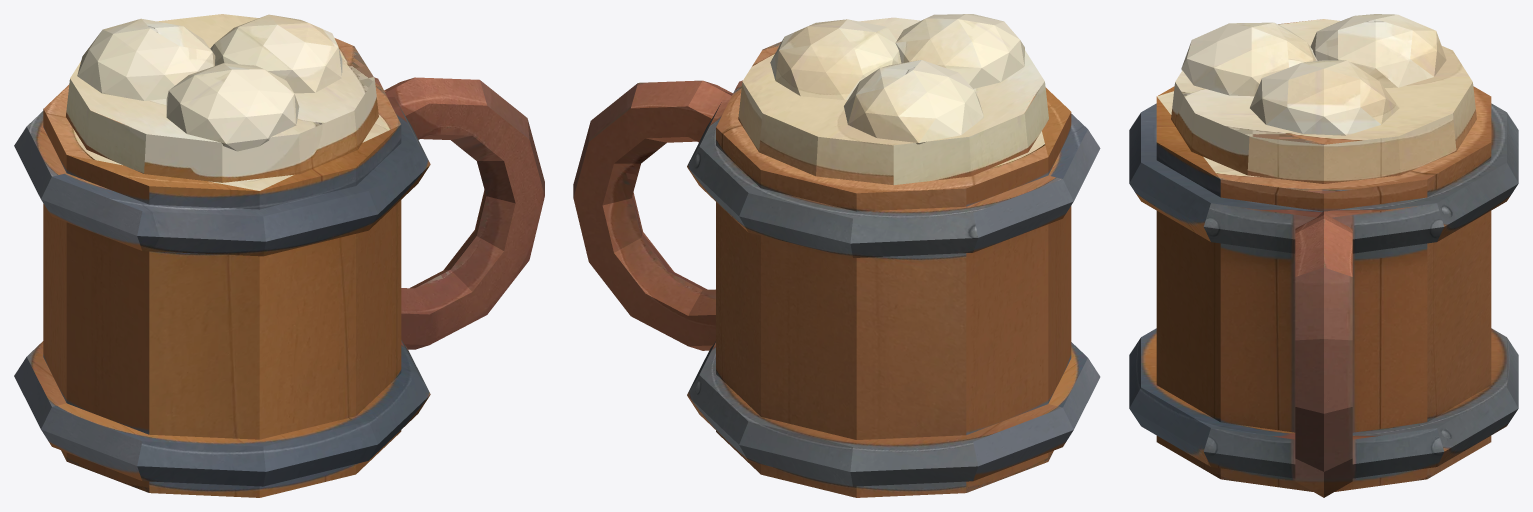
Rendered from kit_mug.glb.
The picture shows the model from 3 angles, left to right: view 1: azimuth 30°, elevation 25°; view 2: azimuth 150°, elevation 25°; view 3: azimuth 270°, elevation 25°; orthographic projection. The views are drawn at different scales.
Parts seen in each view (by area): view 1: Tankard body, Tankard handle, Tankard band.001, Tankard band, Foam surface, Foam bubble.002, Foam bubble, Foam bubble.001; view 2: Tankard body, Tankard handle, Tankard band.001, Tankard band, Foam surface, Foam bubble, Foam bubble.001, Foam bubble.002; view 3: Tankard body, Foam surface, Tankard band.001, Tankard band, Tankard handle, Foam bubble.001, Foam bubble, Foam bubble.002.
Boxes of the visible parts, x1,y1,x2,y2 form: Tankard body: [43, 77, 401, 497]; Tankard handle: [384, 77, 544, 349]; Tankard band.001: [14, 90, 430, 256]; Tankard band: [14, 340, 430, 486]; Foam surface: [66, 14, 378, 182]; Foam bubble.002: [166, 63, 299, 151]; Foam bubble: [77, 18, 215, 100]; Foam bubble.001: [210, 14, 342, 93]; Tankard body: [716, 80, 1071, 497]; Tankard handle: [573, 80, 732, 350]; Tankard band.001: [687, 93, 1100, 257]; Tankard band: [687, 341, 1100, 486]; Foam surface: [738, 17, 1048, 185]; Foam bubble: [844, 60, 983, 144]; Foam bubble.001: [770, 19, 901, 99]; Foam bubble.002: [895, 14, 1024, 88]; Tankard body: [1156, 86, 1491, 491]; Foam surface: [1171, 19, 1476, 183]; Tankard band.001: [1129, 103, 1518, 253]; Tankard band: [1129, 328, 1518, 478]; Tankard handle: [1295, 211, 1352, 497]; Foam bubble.001: [1250, 60, 1399, 135]; Foam bubble: [1310, 14, 1446, 87]; Foam bubble.002: [1181, 22, 1317, 96].
Size of the model in its own units: 0.275 by 0.2021 by 0.1883.
Materials: 4 (4 with a texture image).
